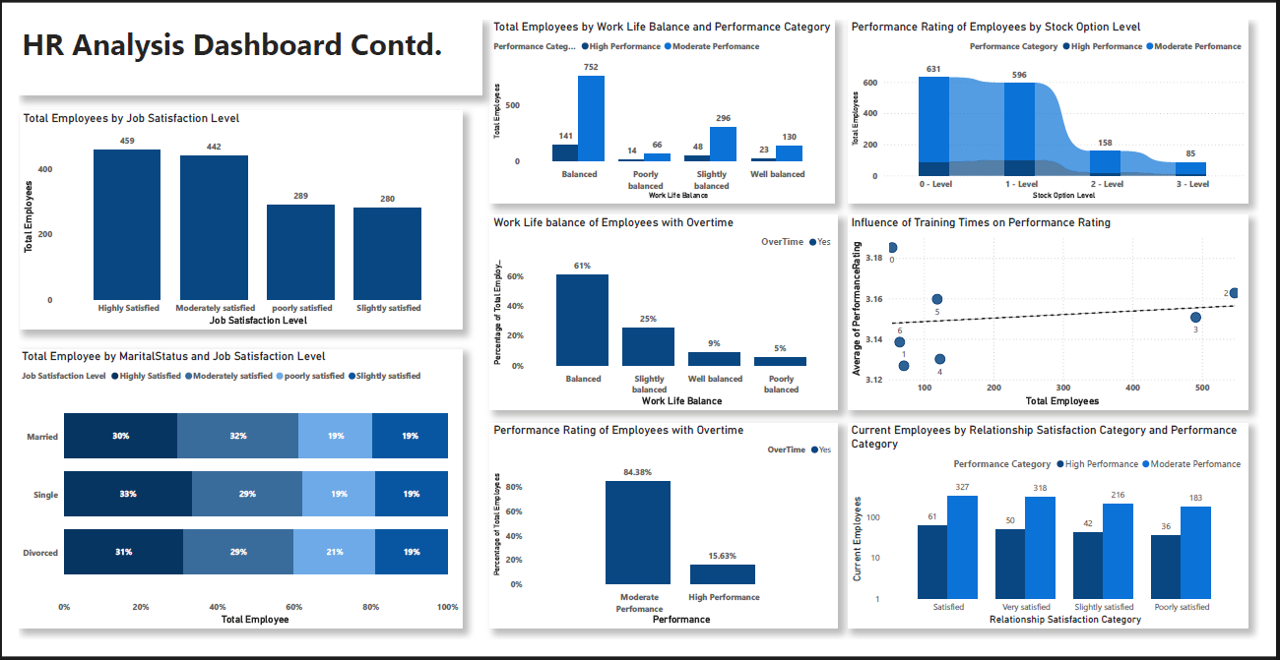

What the dashboard file says about the page in this screenshot:
{"tool":"powerbi","page":{"name":"Page 3","canvas":[1800,900],"ordinal":1},"visuals":[{"type":"clusteredColumnChart","fields":{"Category":["HR Analytics Data.Work Balance Catrgory"],"Series":["HR Analytics Data.Performance Category"],"Y":["Count(HR Analytics Data.EmployeeNumber)"]},"box":[684.5,0,498.3,265.5],"z":0},{"type":"clusteredColumnChart","title":"Performance Rating of Employees with Overtime","fields":{"Y":["Sum(HR Analytics Data.EmployeeNumber)"],"Category":["HR Analytics Data.Performance Category"],"Series":["HR Analytics Data.OverTime"]},"box":[684.5,586.2,503.4,298.3],"z":1000},{"type":"clusteredColumnChart","title":"Work Life balance of Employees with Overtime","fields":{"Y":["Sum(HR Analytics Data.EmployeeNumber)"],"Category":["HR Analytics Data.Work Balance Catrgory"],"Series":["HR Analytics Data.OverTime"]},"box":[684.5,284.5,503.4,281],"z":2000},{"type":"clusteredColumnChart","fields":{"Y":["Count(HR Analytics Data.EmployeeNumber)"],"Category":["HR Analytics Data.Satisfaction Level"]},"box":[1.7,132.8,641.4,317.2],"z":3000},{"type":"hundredPercentStackedBarChart","fields":{"Category":["HR Analytics Data.MaritalStatus"],"Series":["HR Analytics Data.Satisfaction Level"],"Y":["Count(HR Analytics Data.EmployeeNumber)"]},"box":[0,479.3,643.1,405.2],"z":4000},{"type":"ribbonChart","title":"Performance Rating of Employees by Stock Option Level","fields":{"Category":["HR Analytics Data.Stock Option Level"],"Series":["HR Analytics Data.Performance Category"],"Y":["Count(HR Analytics Data.EmployeeNumber)"]},"box":[1203.4,0,579.3,265.5],"z":5000},{"type":"scatterChart","title":"Influence of Training Times on Performance Rating","fields":{"Category":["HR Analytics Data.TrainingTimesLastYear"],"Y":["Avg(HR Analytics Data.PerformanceRating)"],"X":["Count(HR Analytics Data.EmployeeNumber)"]},"box":[1203.4,284.5,579.3,281],"z":6000},{"type":"clusteredColumnChart","fields":{"Category":["HR Analytics Data.Relationship Satisfaction Category"],"Series":["HR Analytics Data.Performance Category"],"Y":["HR Analytics Data.Current Employees"]},"box":[1203.4,586.2,579.3,298.3],"z":7000},{"type":"textbox","box":[0,0,672.4,110.3],"z":8000}]}

Visuals, with their boxes on the page's 1800x900 design canvas (x1, y1, x2, y2). These are canvas units, not pixel positions in the 1280x660 screenshot, which may show the page scaled, cropped or inside an application window:
clusteredColumnChart - HR Analytics Data.Work Balance Catrgory x HR Analytics Data.Performance Category: (x1=684, y1=0, x2=1183, y2=266)
"Performance Rating of Employees with Overtime" clusteredColumnChart: (x1=684, y1=586, x2=1188, y2=884)
"Work Life balance of Employees with Overtime" clusteredColumnChart: (x1=684, y1=284, x2=1188, y2=566)
clusteredColumnChart - Count(HR Analytics Data.EmployeeNumber) x HR Analytics Data.Satisfaction Level: (x1=2, y1=133, x2=643, y2=450)
hundredPercentStackedBarChart - HR Analytics Data.MaritalStatus x HR Analytics Data.Satisfaction Level: (x1=0, y1=479, x2=643, y2=884)
"Performance Rating of Employees by Stock Option Level" ribbonChart: (x1=1203, y1=0, x2=1783, y2=266)
"Influence of Training Times on Performance Rating" scatterChart: (x1=1203, y1=284, x2=1783, y2=566)
clusteredColumnChart - HR Analytics Data.Relationship Satisfaction Category x HR Analytics Data.Performance Category: (x1=1203, y1=586, x2=1783, y2=884)
textbox: (x1=0, y1=0, x2=672, y2=110)
